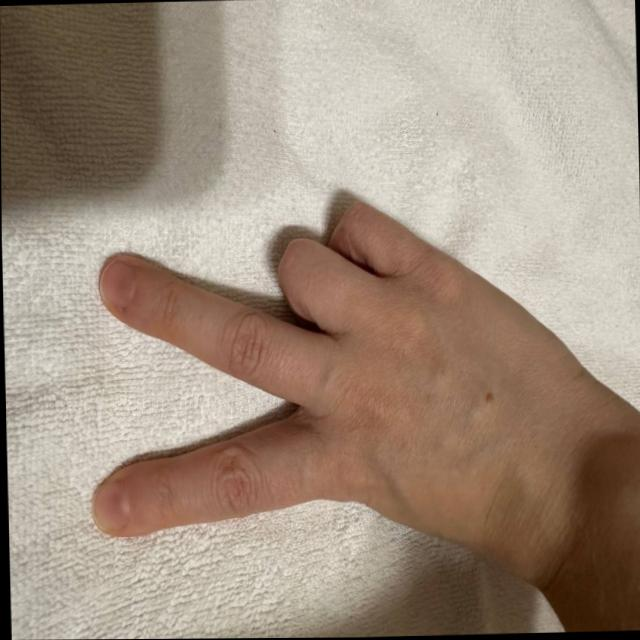l: (88, 181, 591, 574)
